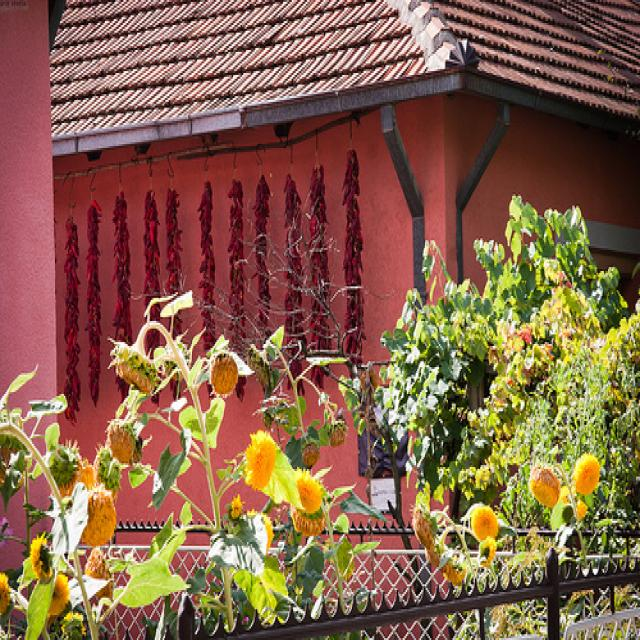sunflower: (99, 337, 166, 401), (240, 422, 284, 499), (101, 418, 142, 476), (565, 447, 604, 506), (25, 533, 59, 595), (206, 347, 242, 404), (469, 496, 499, 555), (529, 462, 564, 509)
